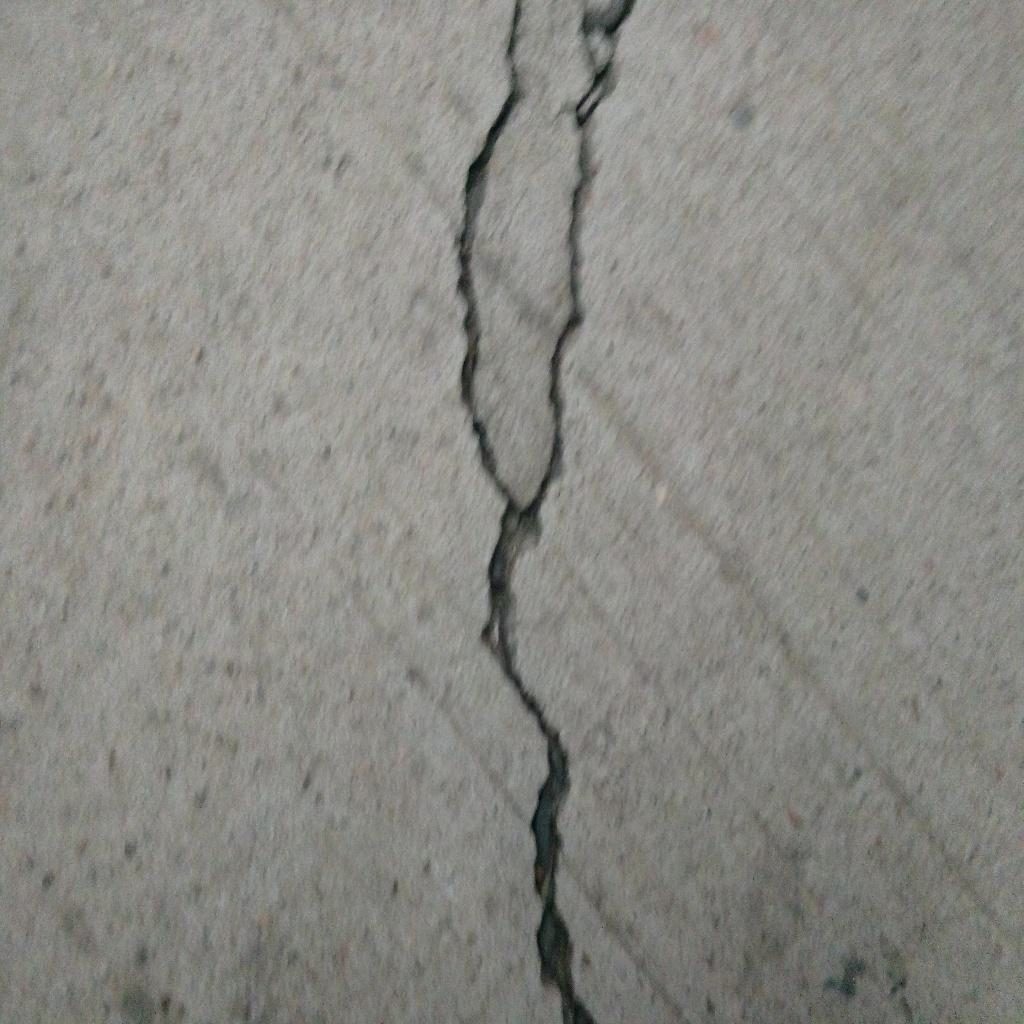Crack: (477, 515, 595, 1024), (528, 1, 634, 515), (455, 1, 527, 515)
